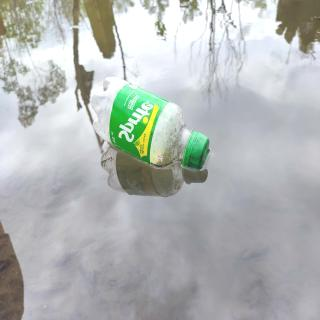bottle: (86, 72, 214, 174)
